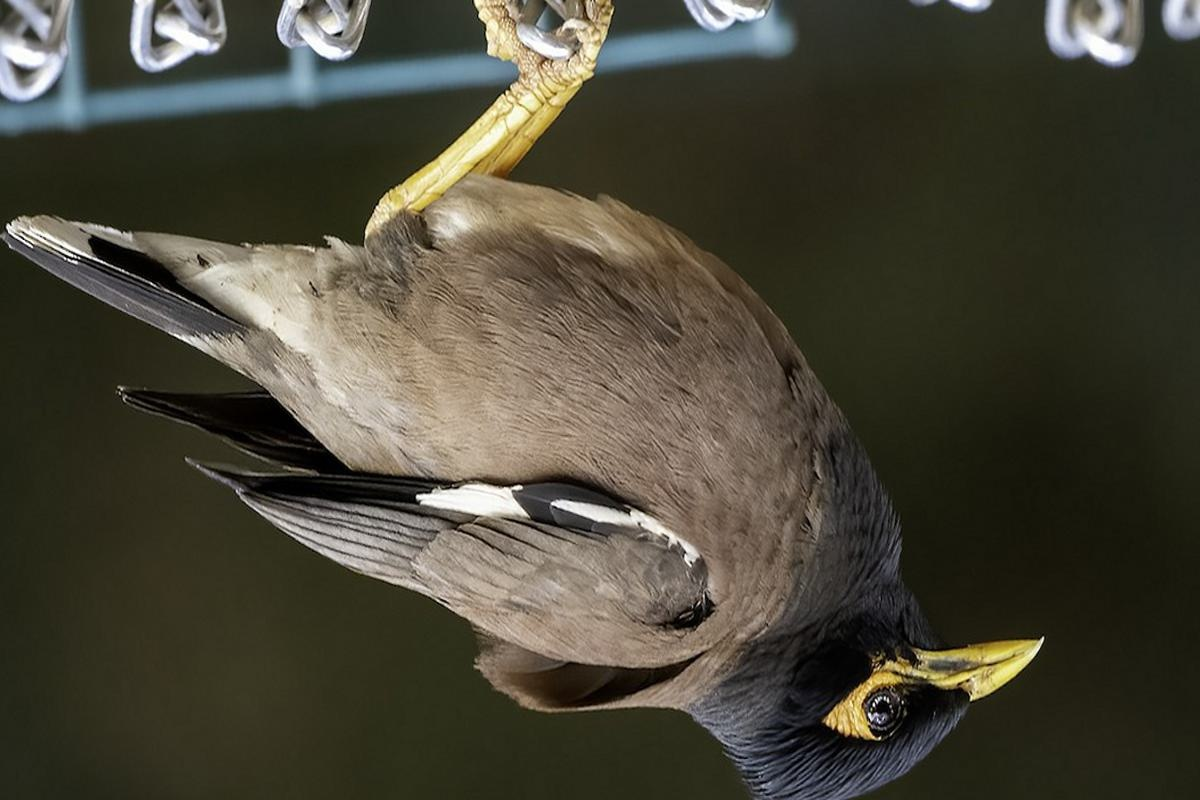myna: (160, 71, 1011, 777)
